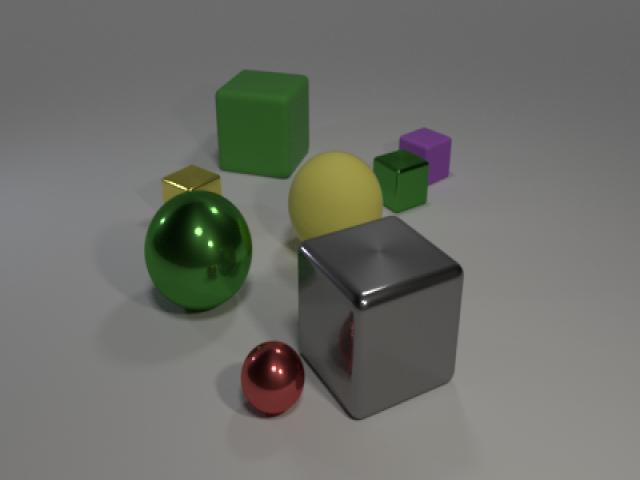round ball: (140, 182, 255, 322), (286, 146, 385, 247), (235, 333, 308, 421)
